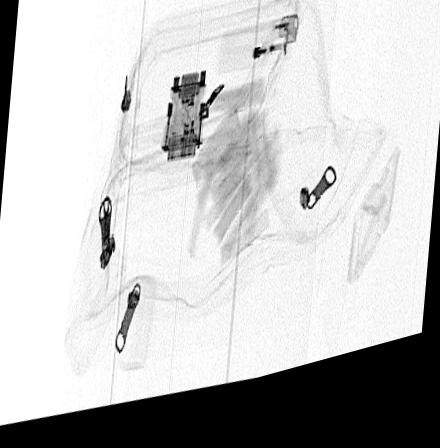Lighter: (217, 28, 300, 87)
